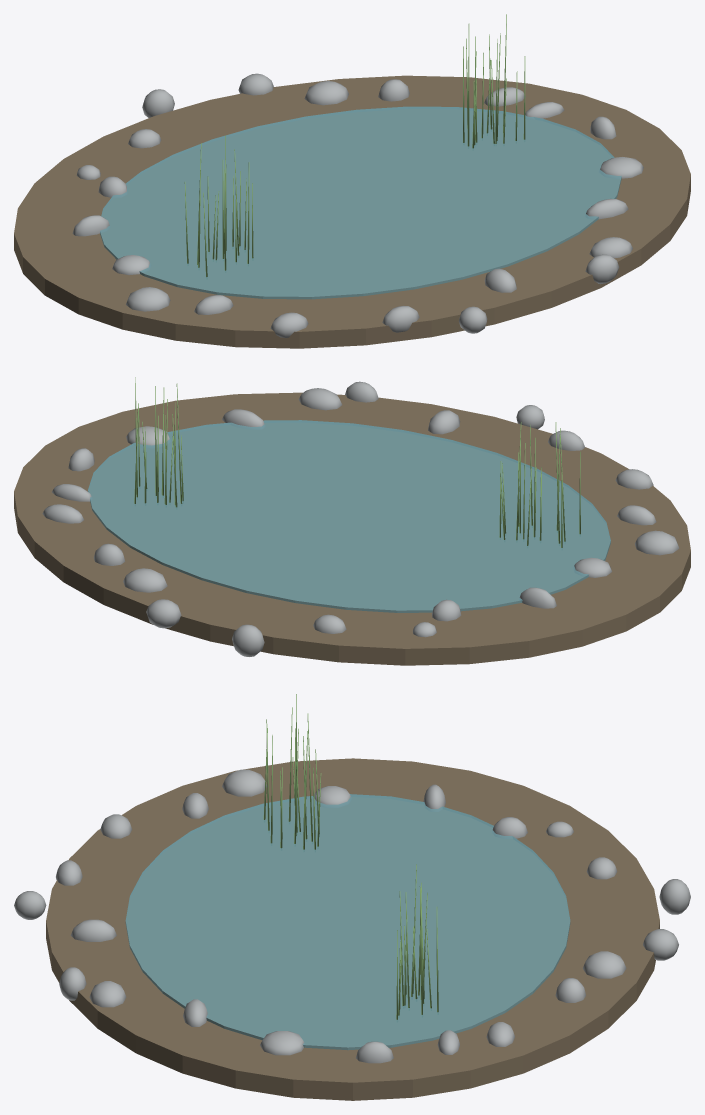
File: pond_landmark.glb
3 renders of one model, top to bottom at view 1: azimuth 30°, elevation 25°; view 2: azimuth 150°, elevation 25°; view 3: azimuth 270°, elevation 25°, orthographic. The views are drawn at different scales.
Visible parts, largest first — view 1: pond_shore, pond_water, shore_stone_12, shore_stone_4, shore_stone_21, shore_stone_18, shore_stone_15, shore_stone_6, shore_stone_19, shore_stone_14, shore_stone_20, shore_stone_11 (+7 smaller); view 2: pond_shore, pond_water, shore_stone_12, shore_stone_4, shore_stone_6, shore_stone_5, shore_stone_19, shore_stone_21, shore_stone_20, shore_stone_11, shore_stone_17, shore_stone_2 (+11 smaller); view 3: pond_shore, pond_water, shore_stone_12, shore_stone_4, shore_stone_21, shore_stone_6, shore_stone_5, shore_stone_17, shore_stone_19, shore_stone_16, shore_stone_18, shore_stone_0 (+2 smaller).
Boxes of the visible parts, bbox=[...] form: pond_shore: bbox=[14, 75, 690, 348]; pond_water: bbox=[100, 106, 621, 299]; shore_stone_12: bbox=[126, 287, 170, 311]; shore_stone_4: bbox=[304, 81, 348, 105]; shore_stone_21: bbox=[599, 157, 643, 178]; shore_stone_18: bbox=[585, 254, 619, 284]; shore_stone_15: bbox=[382, 305, 419, 332]; shore_stone_6: bbox=[142, 89, 174, 117]; shore_stone_19: bbox=[589, 237, 632, 258]; shore_stone_14: bbox=[270, 312, 308, 337]; shore_stone_20: bbox=[586, 198, 628, 219]; shore_stone_11: bbox=[112, 255, 150, 275]; pond_shore: bbox=[14, 392, 690, 665]; pond_water: bbox=[88, 420, 610, 612]; shore_stone_12: bbox=[635, 530, 679, 555]; shore_stone_4: bbox=[123, 568, 167, 592]; shore_stone_6: bbox=[232, 624, 264, 656]; shore_stone_5: bbox=[146, 599, 181, 628]; shore_stone_19: bbox=[298, 388, 342, 410]; shore_stone_21: bbox=[126, 426, 170, 447]; shore_stone_20: bbox=[222, 409, 264, 428]; shore_stone_11: bbox=[574, 557, 611, 577]; shore_stone_17: bbox=[428, 410, 460, 434]; shore_stone_2: bbox=[42, 504, 83, 523]; pond_shore: bbox=[46, 758, 659, 1100]; pond_water: bbox=[125, 794, 570, 1050]; shore_stone_12: bbox=[222, 769, 267, 796]; shore_stone_4: bbox=[582, 951, 626, 978]; shore_stone_21: bbox=[260, 1031, 304, 1055]; shore_stone_6: bbox=[659, 879, 690, 914]; shore_stone_5: bbox=[643, 929, 678, 960]; shore_stone_17: bbox=[70, 919, 116, 941]; shore_stone_19: bbox=[89, 981, 126, 1007]; shore_stone_16: bbox=[14, 891, 46, 919]; shore_stone_18: bbox=[59, 967, 86, 1000]; shore_stone_0: bbox=[356, 1041, 393, 1063].
Size of the model in its own units: 4.6 by 1 by 4.06.
